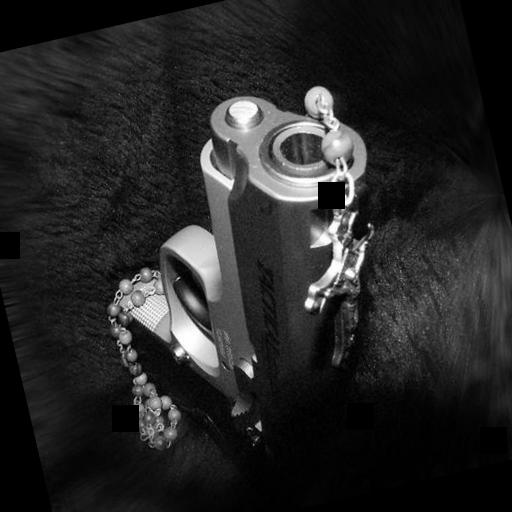Handgun: (61, 74, 436, 498)
